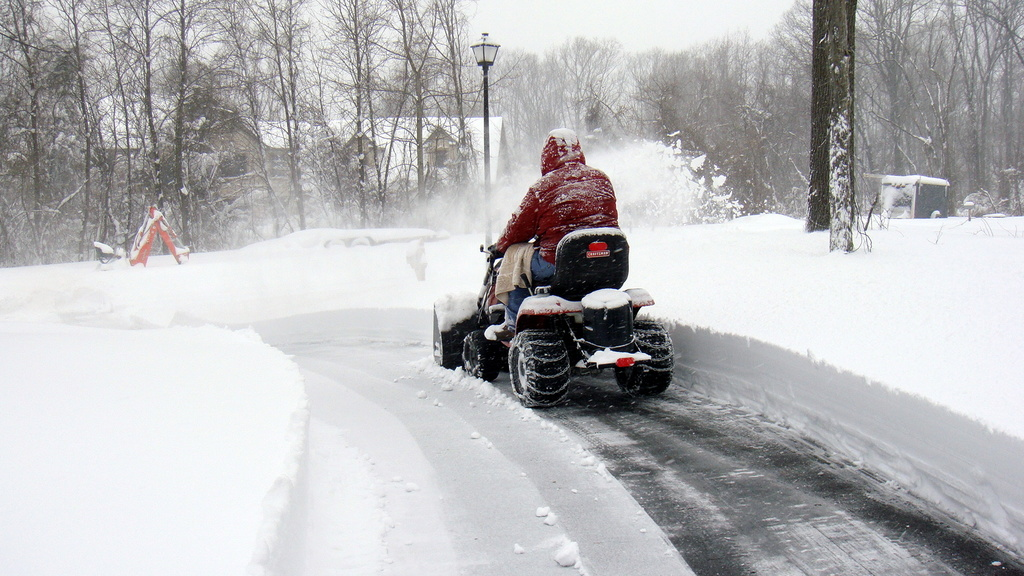Person: (484, 127, 621, 340)
